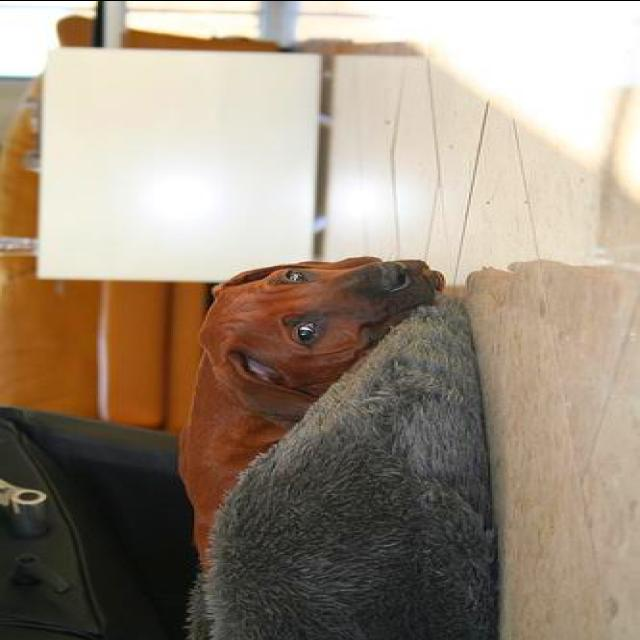rhodesian_ridgeback: (182, 255, 446, 572)
